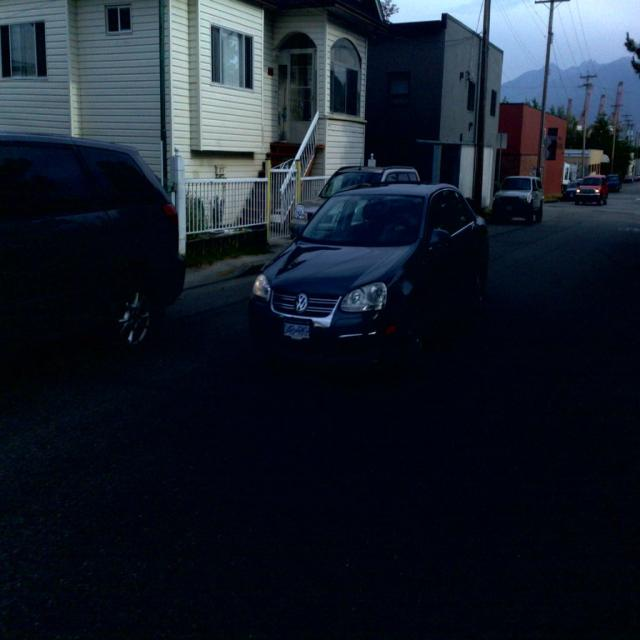car: (240, 160, 475, 348), (491, 172, 541, 221), (565, 169, 605, 203)
